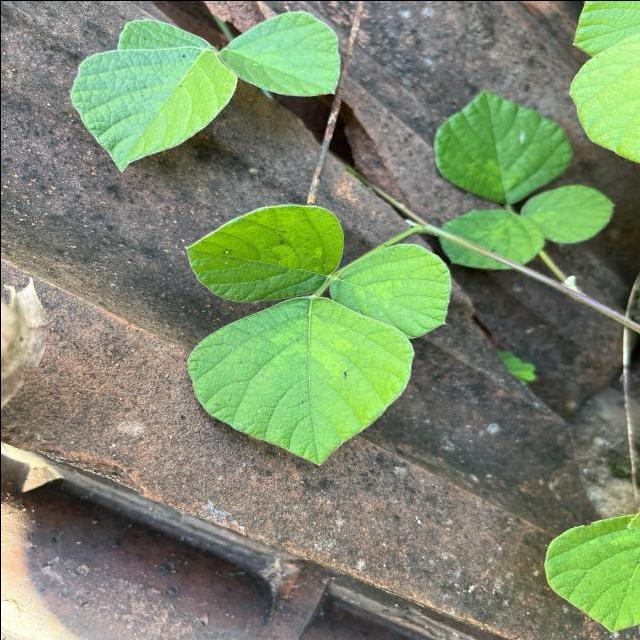Pseudarthria viscida: (181, 201, 455, 468), (429, 86, 616, 272)
